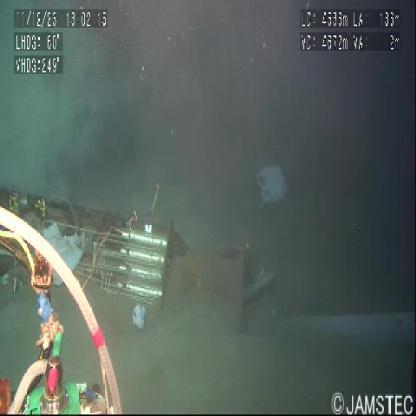Rác: (42, 220, 88, 288), (257, 167, 287, 200)
